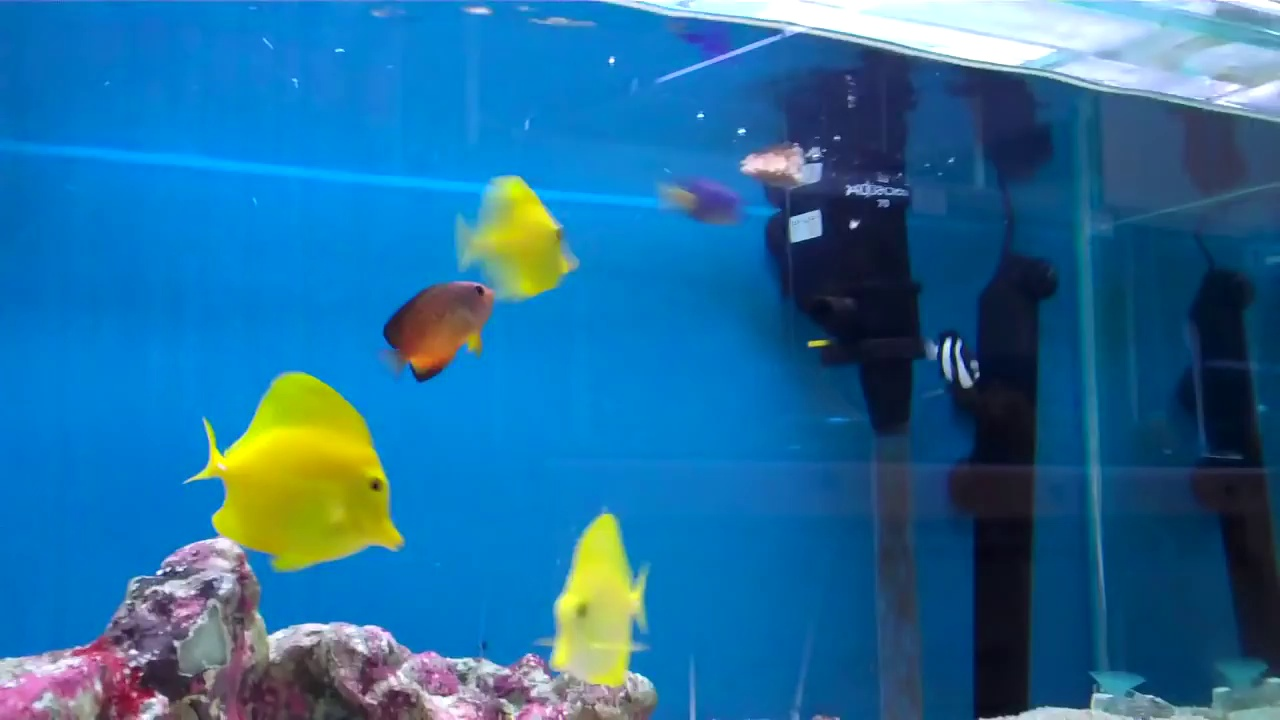saddle butterfly fish: (168, 379, 409, 575), (524, 514, 659, 695), (423, 183, 583, 299)
